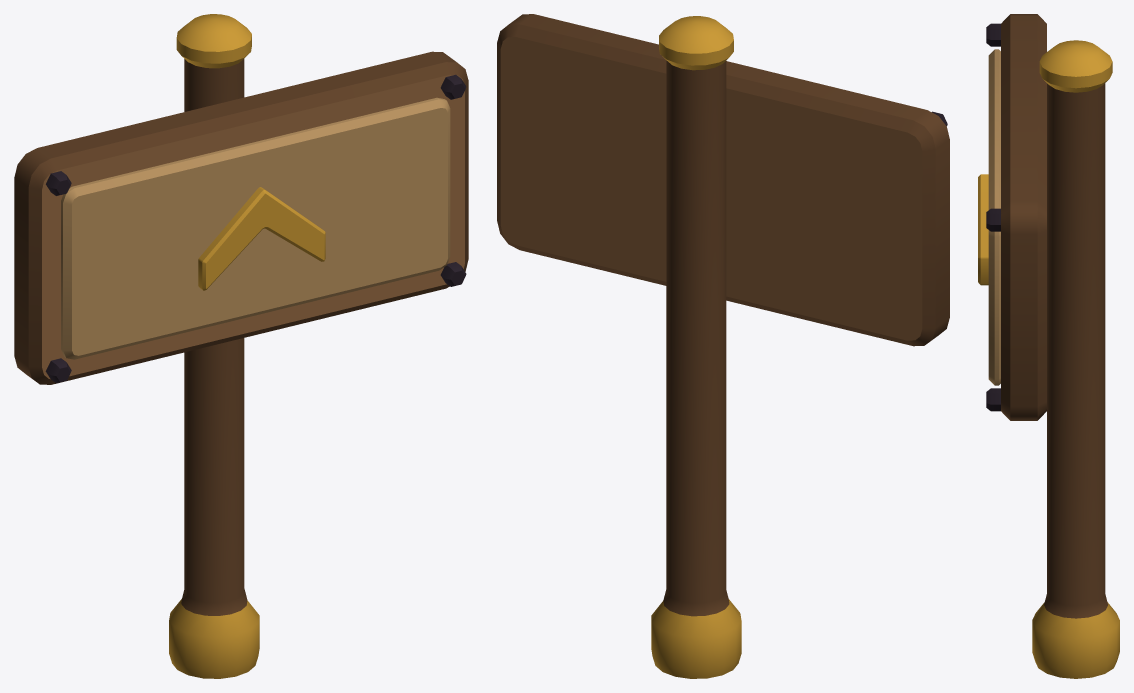
Rendered from Sign_04.glb.
3 views of the same model, side by side, from view 1: azimuth 30°, elevation 25°; view 2: azimuth 150°, elevation 25°; view 3: azimuth 270°, elevation 25° (orthographic). The views are drawn at different scales.
Visible parts, largest first — view 1: Sign_04; view 2: Sign_04; view 3: Sign_04.
Boxes of the visible parts, x1,y1,x2,y2 form: Sign_04: (14, 14, 468, 678); Sign_04: (497, 14, 949, 678); Sign_04: (978, 14, 1119, 678).
Bounding box in the file's own units: 2.34 × 3.26 × 0.68.
